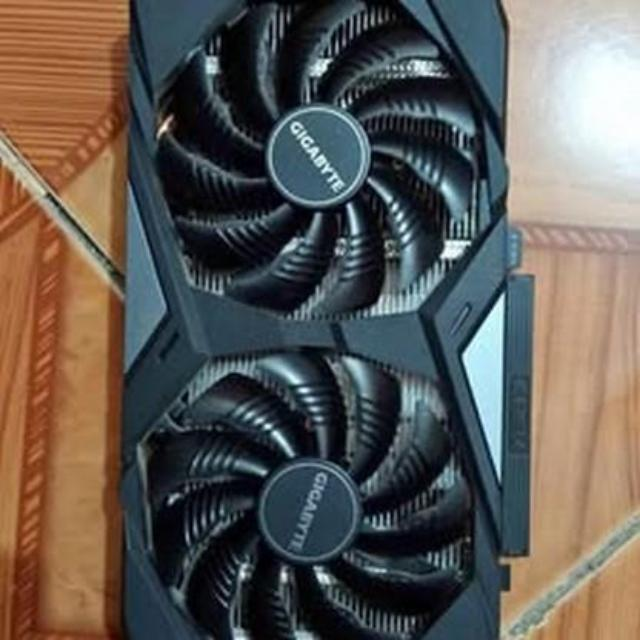GPU: (124, 0, 502, 640)
